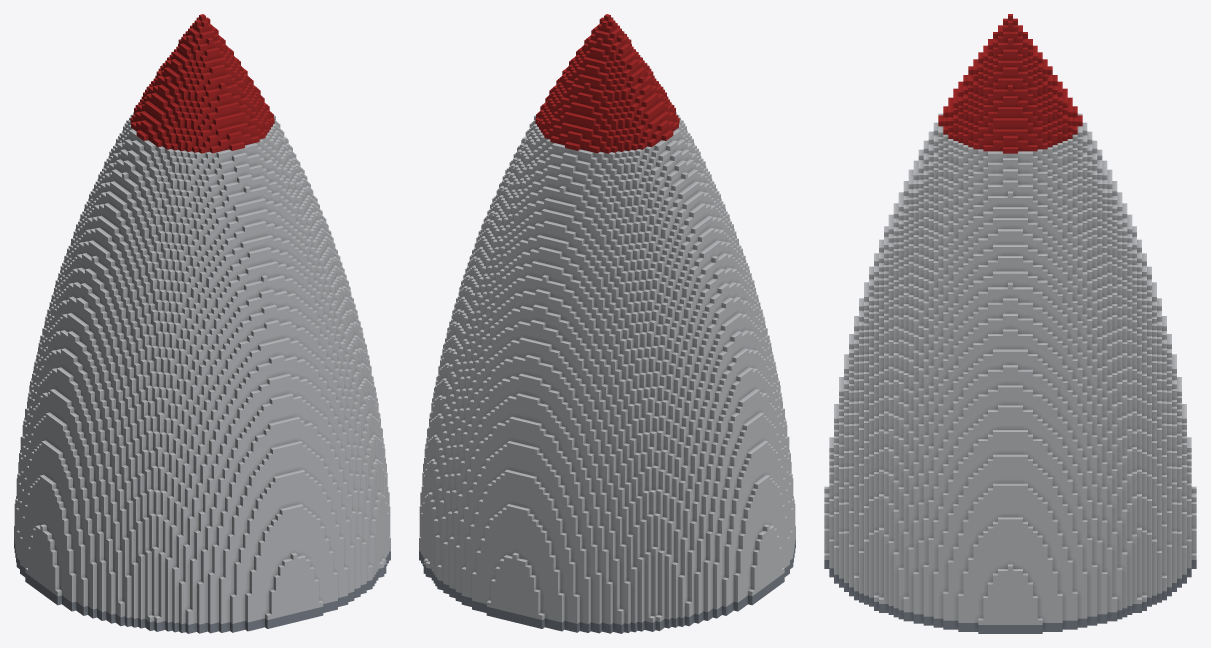
The model's file is nose_cone_l.glb.
The picture shows the model from 3 angles, left to right: view 1: azimuth 30°, elevation 25°; view 2: azimuth 150°, elevation 25°; view 3: azimuth 270°, elevation 25°; orthographic projection.
Visible parts, largest first — view 1: nose_cone_l; view 2: nose_cone_l; view 3: nose_cone_l.
Boxes of the visible parts, bbox=[...] form: nose_cone_l: bbox=[14, 14, 390, 633]; nose_cone_l: bbox=[419, 14, 795, 633]; nose_cone_l: bbox=[824, 14, 1196, 633].
Bounding box in the file's own units: 3.75 × 6 × 3.75.
